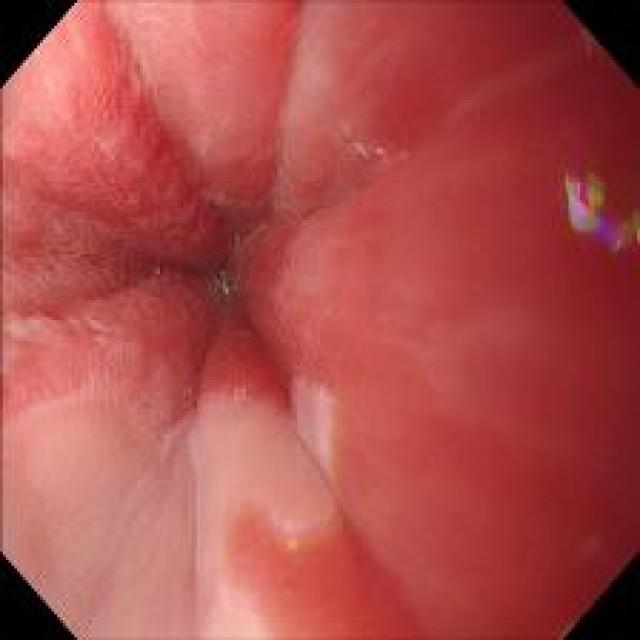blur: (271, 31, 631, 628)
color misalignment: (559, 164, 639, 259), (334, 120, 415, 175), (216, 268, 235, 298), (151, 261, 168, 279)
